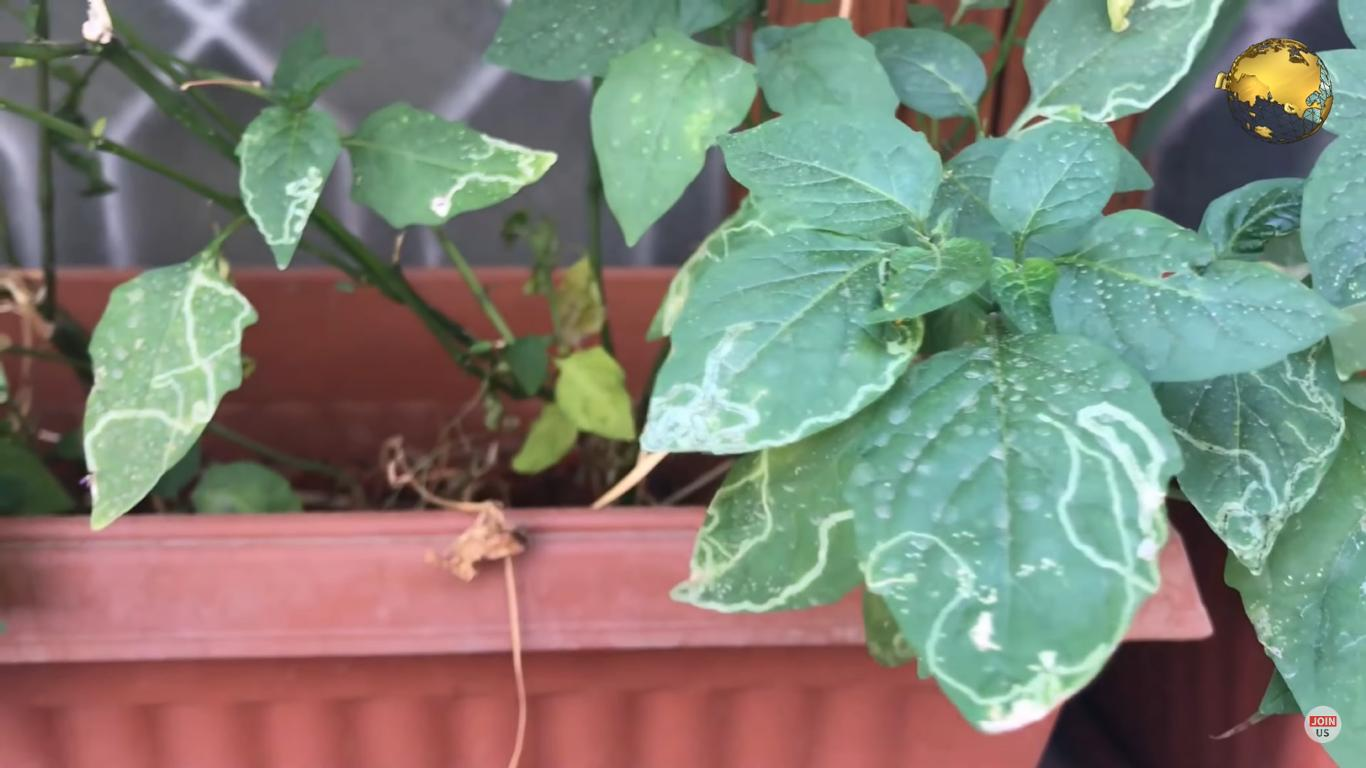Healthy: (712, 110, 942, 237)
Leaf_Miner: (841, 329, 1184, 738), (640, 226, 928, 458), (82, 248, 258, 534), (1147, 342, 1347, 579), (666, 419, 870, 619), (348, 98, 562, 231), (1019, 0, 1222, 126), (643, 198, 791, 338), (238, 104, 341, 271)
